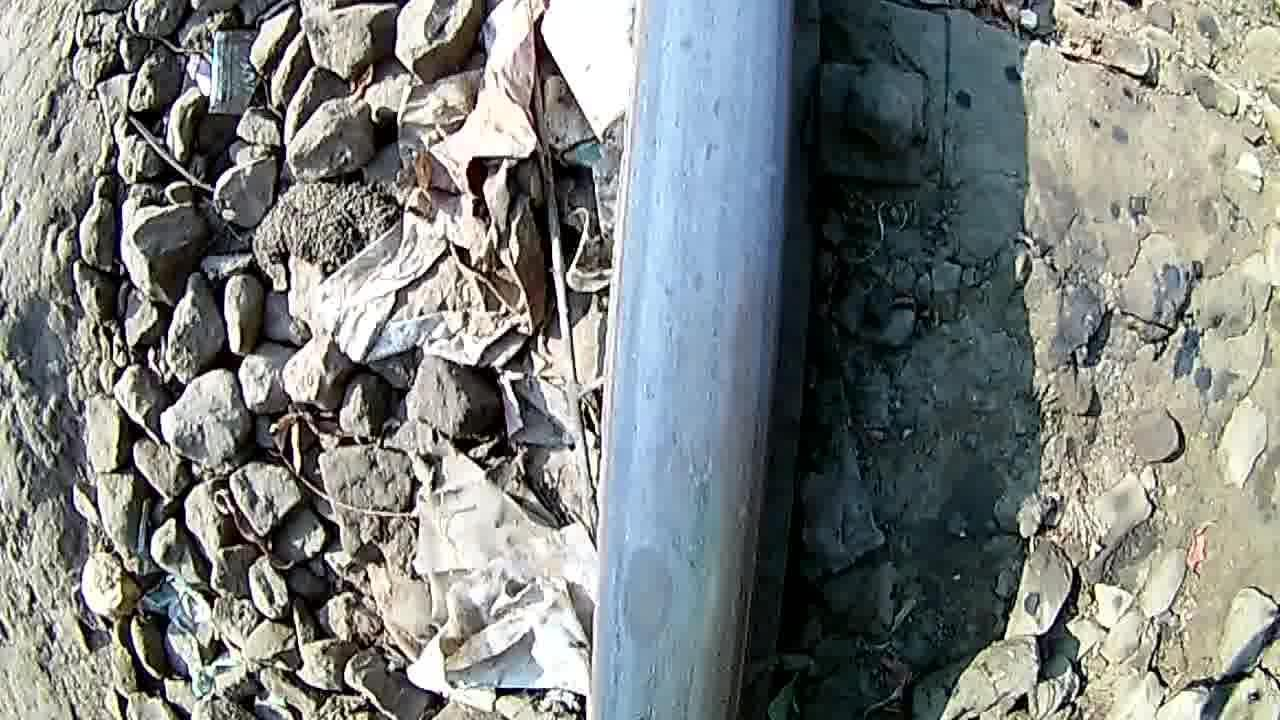crack: (580, 285, 790, 720)
